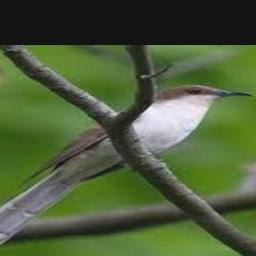Cuckoo: (0, 84, 254, 253)
